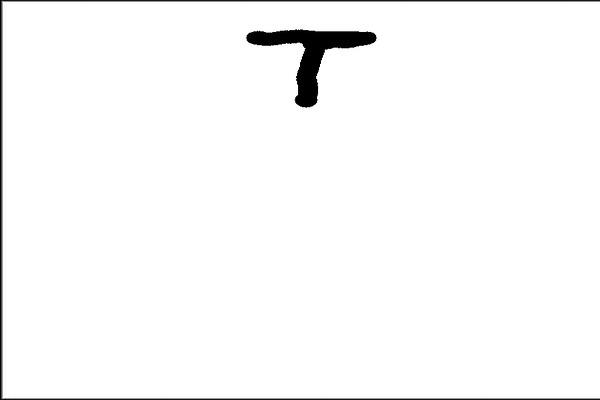T: (239, 18, 378, 109)
